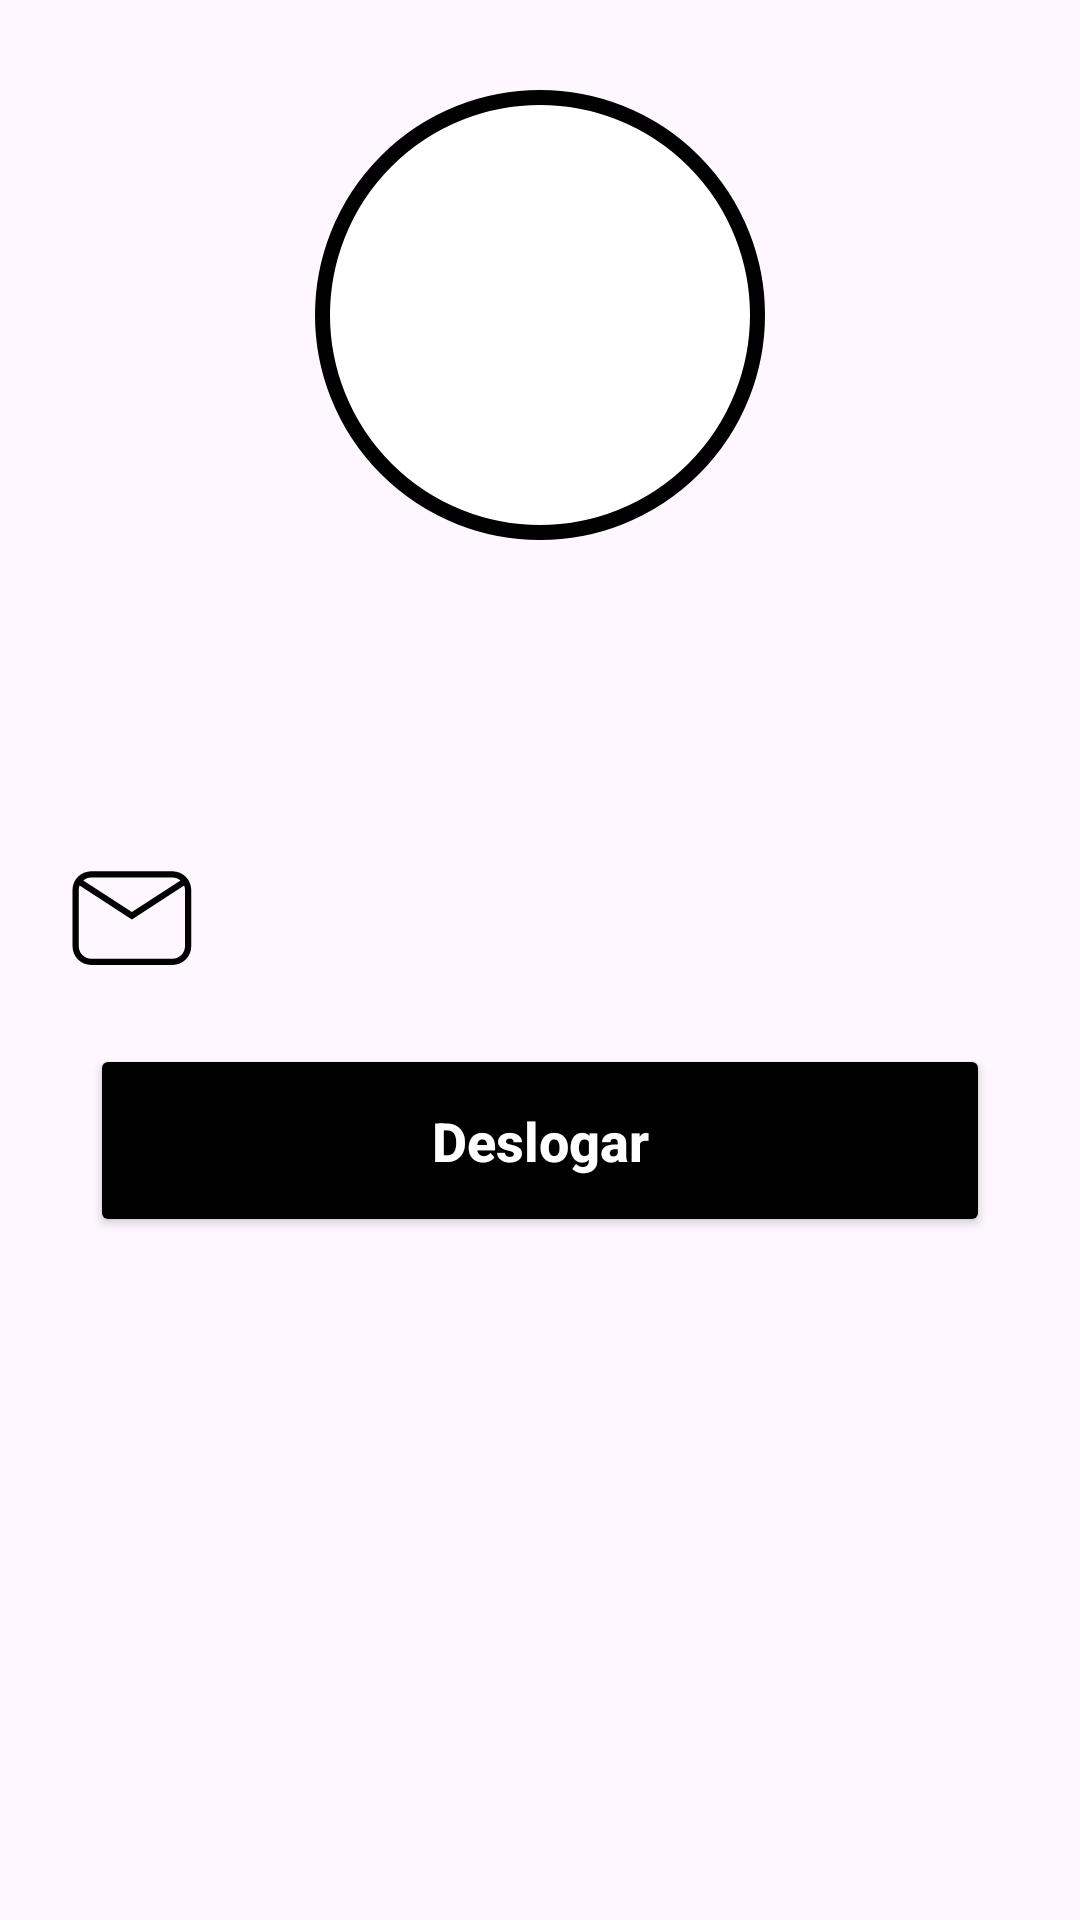

Named icons in this screenshot (1080*1920) and their centers, (x,y):
email: (132,918)
